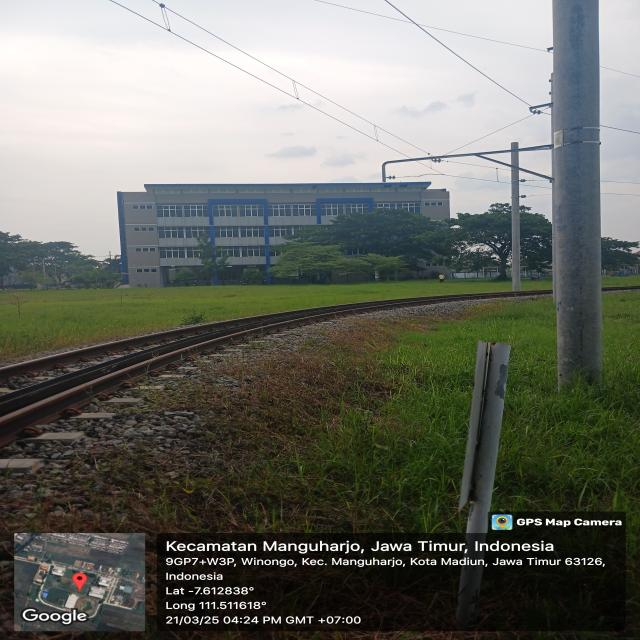rail-detection: (0, 298, 448, 446)
